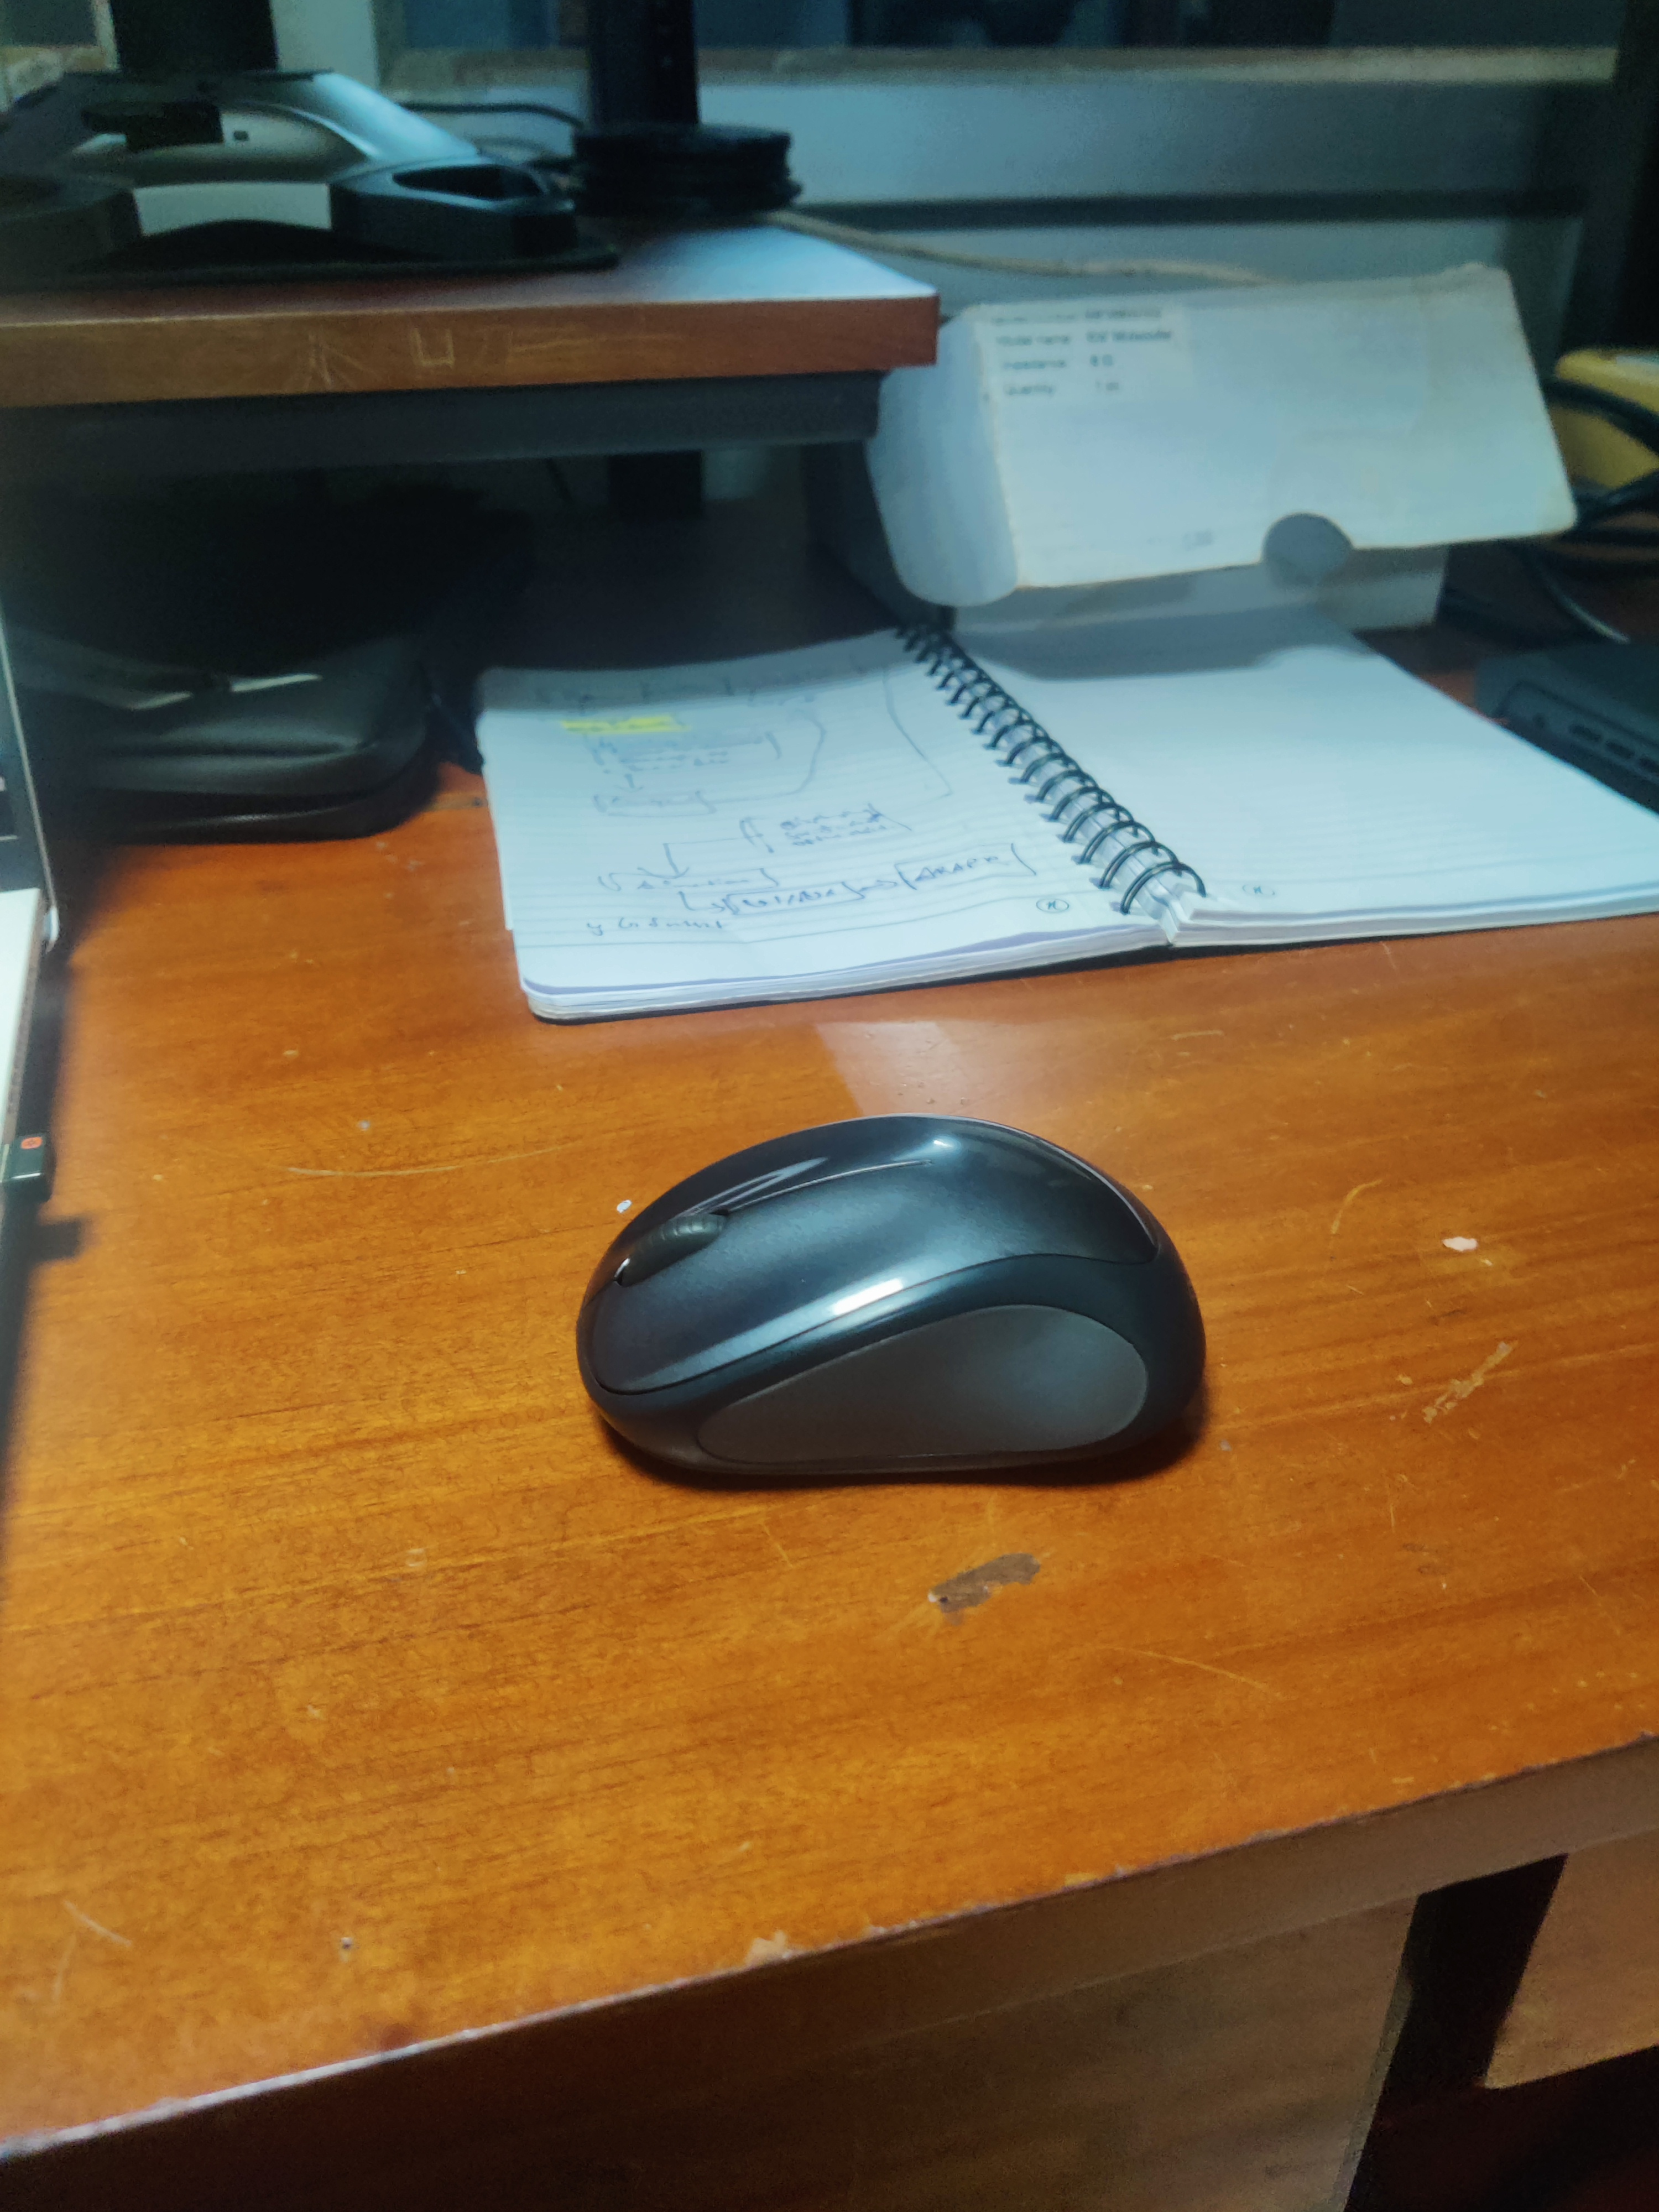logitechMouse: (563, 1104, 1215, 1496)
